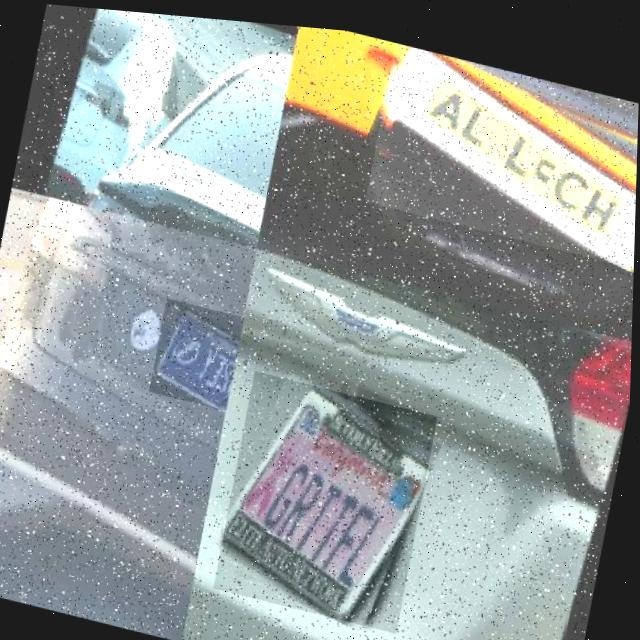LicensePlate: (217, 364, 440, 629), (387, 39, 637, 253), (156, 300, 243, 406)
